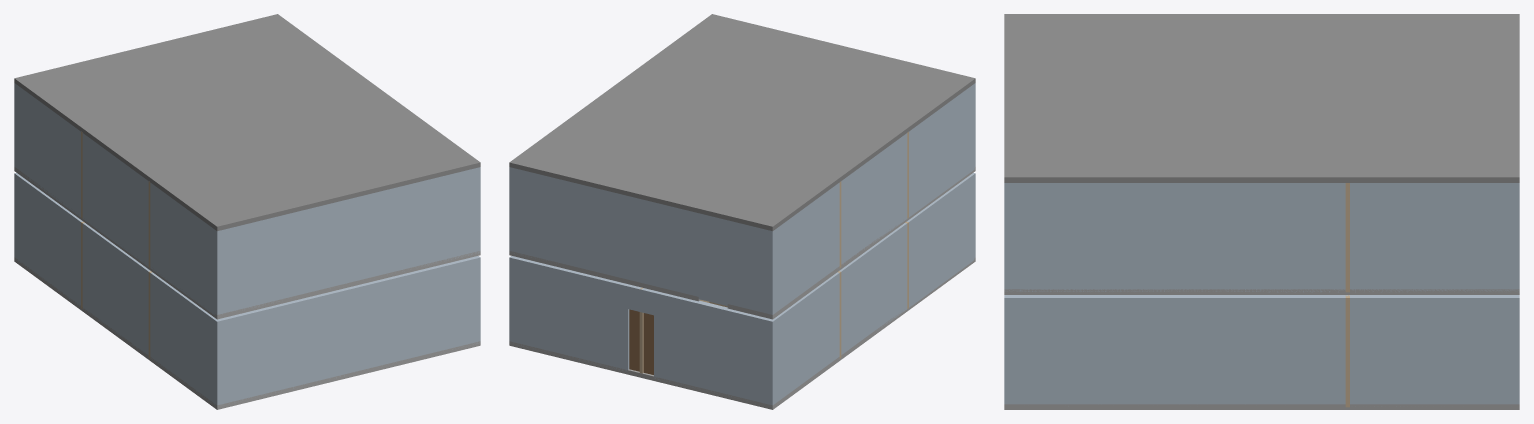
File: generated_house.glb
3 renders of one model, left to right at view 1: azimuth 30°, elevation 25°; view 2: azimuth 150°, elevation 25°; view 3: azimuth 270°, elevation 25°, orthographic. The views are drawn at different scales.
Parts seen in each view (by area): view 1: roof_25, external_wall_7, external_wall_11, external_wall_8, external_wall_12, floor_slab_0, floor_slab_2, floor_slab_1; view 2: roof_25, external_wall_10, external_wall_8, external_wall_12, external_wall_4, external_wall_5, floor_slab_0, door_panel_24, floor_slab_1, floor_slab_2, external_wall_6; view 3: roof_25, external_wall_9, external_wall_13, floor_slab_0, floor_slab_2, external_wall_5, external_wall_7, external_wall_10, external_wall_11, internal_wall_16, internal_wall_21.
Boxes of the visible parts, left/top/right/bottom form: roof_25: left=14, top=14, right=480, bottom=231; external_wall_7: left=214, top=256, right=480, bottom=406; external_wall_11: left=214, top=167, right=480, bottom=316; external_wall_8: left=17, top=175, right=215, bottom=403; external_wall_12: left=17, top=85, right=213, bottom=314; floor_slab_0: left=14, top=257, right=480, bottom=409; floor_slab_2: left=291, top=251, right=480, bottom=301; floor_slab_1: left=14, top=167, right=262, bottom=319; roof_25: left=509, top=14, right=975, bottom=231; external_wall_10: left=509, top=167, right=775, bottom=314; external_wall_8: left=774, top=175, right=972, bottom=402; external_wall_12: left=776, top=85, right=972, bottom=312; external_wall_4: left=654, top=291, right=775, bottom=406; external_wall_5: left=509, top=256, right=629, bottom=371; floor_slab_0: left=509, top=257, right=975, bottom=409; door_panel_24: left=629, top=309, right=653, bottom=374; floor_slab_1: left=727, top=167, right=975, bottom=319; floor_slab_2: left=509, top=251, right=700, bottom=301; external_wall_6: left=628, top=285, right=655, bottom=315; roof_25: left=1004, top=14, right=1519, bottom=182; external_wall_9: left=1012, top=295, right=1511, bottom=406; external_wall_13: left=1012, top=183, right=1511, bottom=292; floor_slab_0: left=1004, top=404, right=1519, bottom=409; floor_slab_2: left=1004, top=289, right=1519, bottom=294; external_wall_5: left=1511, top=295, right=1519, bottom=404; external_wall_7: left=1004, top=295, right=1012, bottom=404; external_wall_10: left=1511, top=183, right=1519, bottom=291; external_wall_11: left=1004, top=183, right=1012, bottom=291; internal_wall_16: left=1345, top=295, right=1349, bottom=407; internal_wall_21: left=1345, top=183, right=1349, bottom=292.
Bounding box in the file's own units: 9.15 × 6.08 × 12.19.
